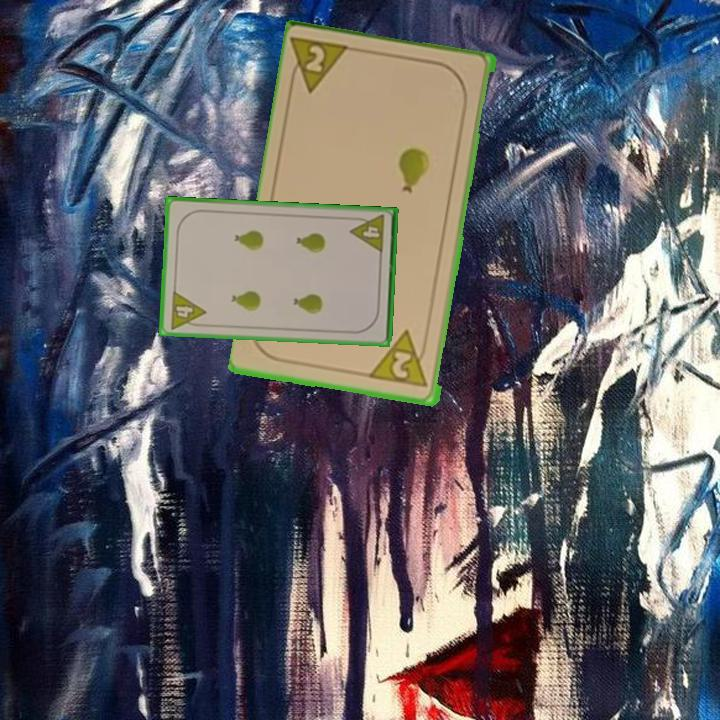2p: (286, 33, 356, 97), (368, 327, 431, 391)
4p: (166, 287, 208, 332), (347, 211, 387, 256)
